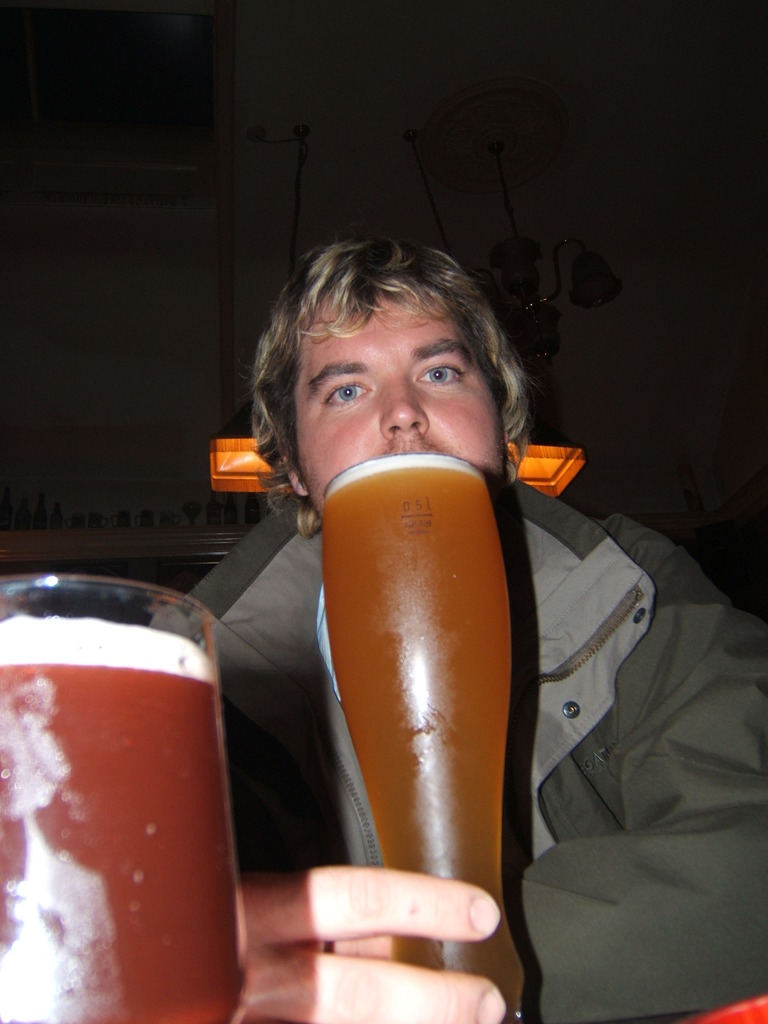Beer: (322, 451, 526, 1023), (0, 620, 248, 1023)
